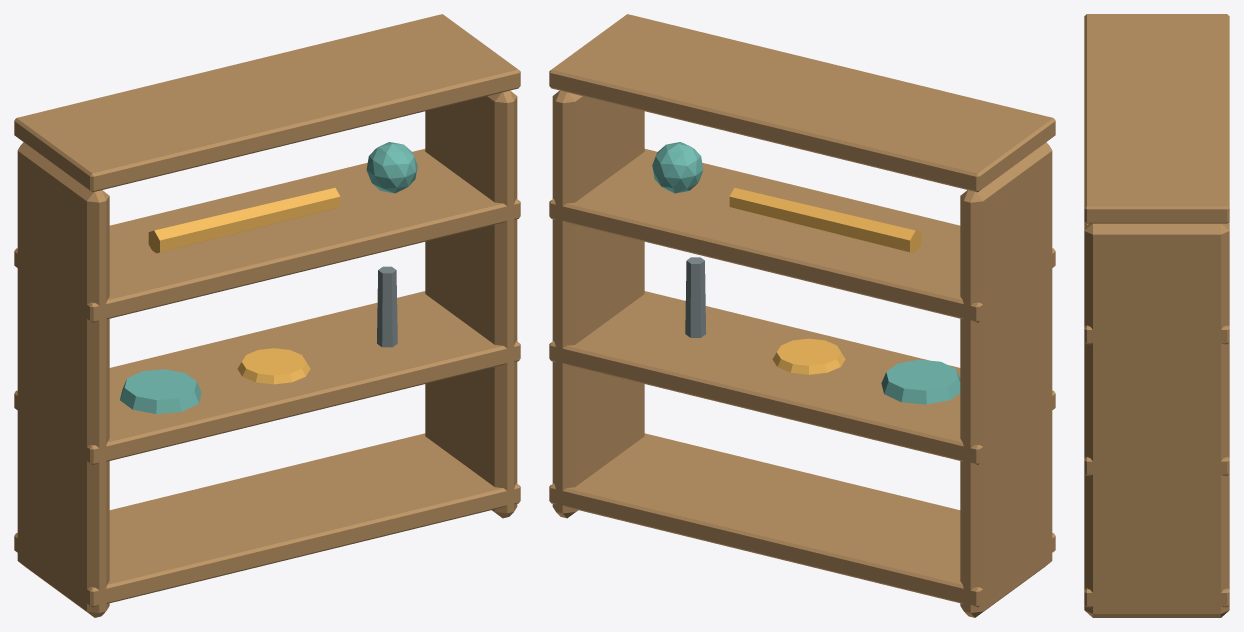
Rendered from CC_CuriosDisplay.fbx.
The picture shows the model from 3 angles, left to right: view 1: azimuth 30°, elevation 25°; view 2: azimuth 150°, elevation 25°; view 3: azimuth 270°, elevation 25°; orthographic projection. The views are drawn at different scales.
Parts seen in each view (by area): view 1: Cabinet shelf.003, Cabinet side.004, Cabinet shelf, Cabinet shelf.002, Cabinet shelf.001, Cabinet side.005, Pencil stub, Button, Coin.004, Marble.012, Screw; view 2: Cabinet shelf.003, Cabinet side.004, Cabinet shelf, Cabinet shelf.001, Cabinet shelf.002, Cabinet side.005, Pencil stub, Button, Coin.004, Marble.012, Screw; view 3: Cabinet side.005, Cabinet shelf.003, Cabinet shelf.001, Cabinet shelf, Cabinet shelf.002.
Part boxes in pixels (x1,y1,x2,y2): Cabinet shelf.003: [14, 14, 520, 192]; Cabinet side.004: [17, 142, 109, 617]; Cabinet shelf: [14, 433, 520, 607]; Cabinet shelf.002: [14, 149, 520, 322]; Cabinet shelf.001: [14, 291, 520, 464]; Cabinet side.005: [425, 90, 517, 518]; Pencil stub: [148, 187, 340, 253]; Button: [120, 369, 201, 413]; Coin.004: [237, 348, 310, 384]; Marble.012: [366, 142, 417, 193]; Screw: [377, 266, 397, 347]; Cabinet shelf.003: [549, 14, 1055, 192]; Cabinet side.004: [960, 142, 1052, 617]; Cabinet shelf: [549, 433, 1055, 607]; Cabinet shelf.001: [549, 291, 1055, 464]; Cabinet shelf.002: [549, 149, 1055, 322]; Cabinet side.005: [552, 90, 644, 518]; Pencil stub: [729, 187, 921, 253]; Button: [881, 359, 960, 404]; Coin.004: [772, 338, 845, 374]; Marble.012: [652, 142, 703, 193]; Screw: [685, 257, 706, 337]; Cabinet side.005: [1084, 223, 1229, 617]; Cabinet shelf.003: [1084, 14, 1229, 223]; Cabinet shelf.001: [1084, 457, 1229, 475]; Cabinet shelf: [1084, 588, 1229, 607]; Cabinet shelf.002: [1084, 222, 1229, 344].
Bounding box in the file's own units: 1.9 × 1.89 × 0.6.
